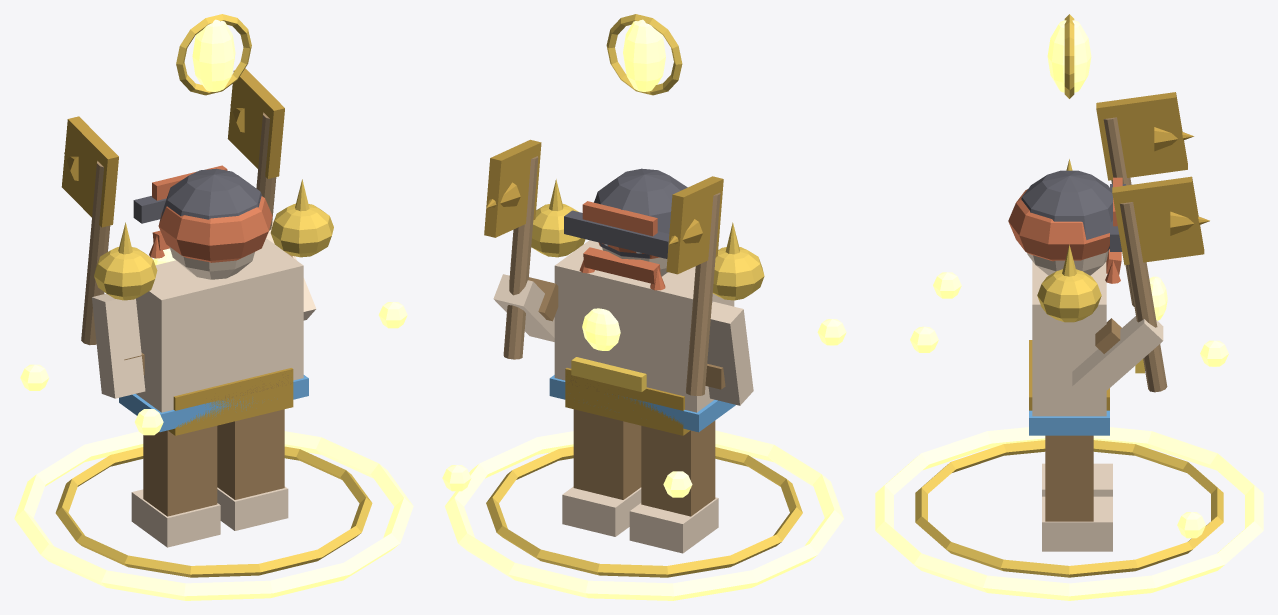
File: hero_berserker.glb
3 renders of one model, left to right at view 1: azimuth 30°, elevation 25°; view 2: azimuth 150°, elevation 25°; view 3: azimuth 270°, elevation 25°, orthographic.
Parts seen in each view (by area): view 1: hero_berserker; view 2: hero_berserker; view 3: hero_berserker.
Part boxes in pixels (x1,y1,x2,y2): hero_berserker: (14,14,413,600); hero_berserker: (442,14,846,600); hero_berserker: (875,14,1263,600).
Bounding box in the file's own units: 2.77 × 3.86 × 2.7.
